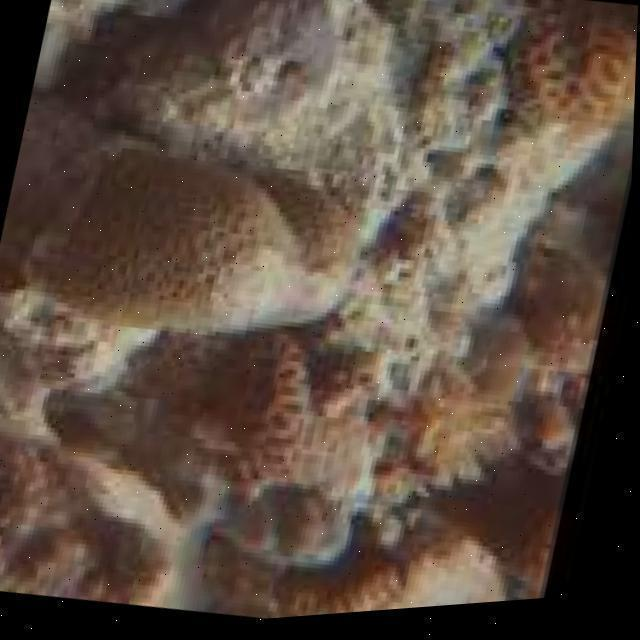Healthy Coral: (73, 139, 364, 330), (202, 344, 381, 487), (520, 0, 628, 142)
